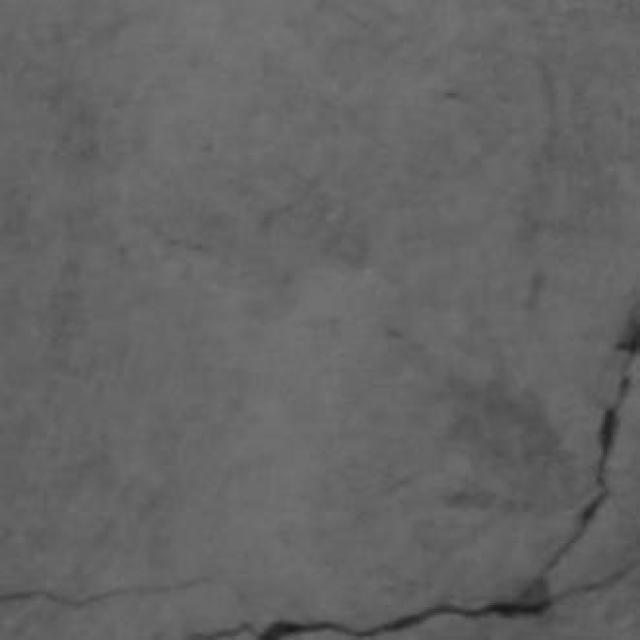crack: (189, 324, 639, 639), (243, 320, 639, 639), (189, 561, 639, 639), (542, 320, 639, 575), (0, 578, 211, 608)
